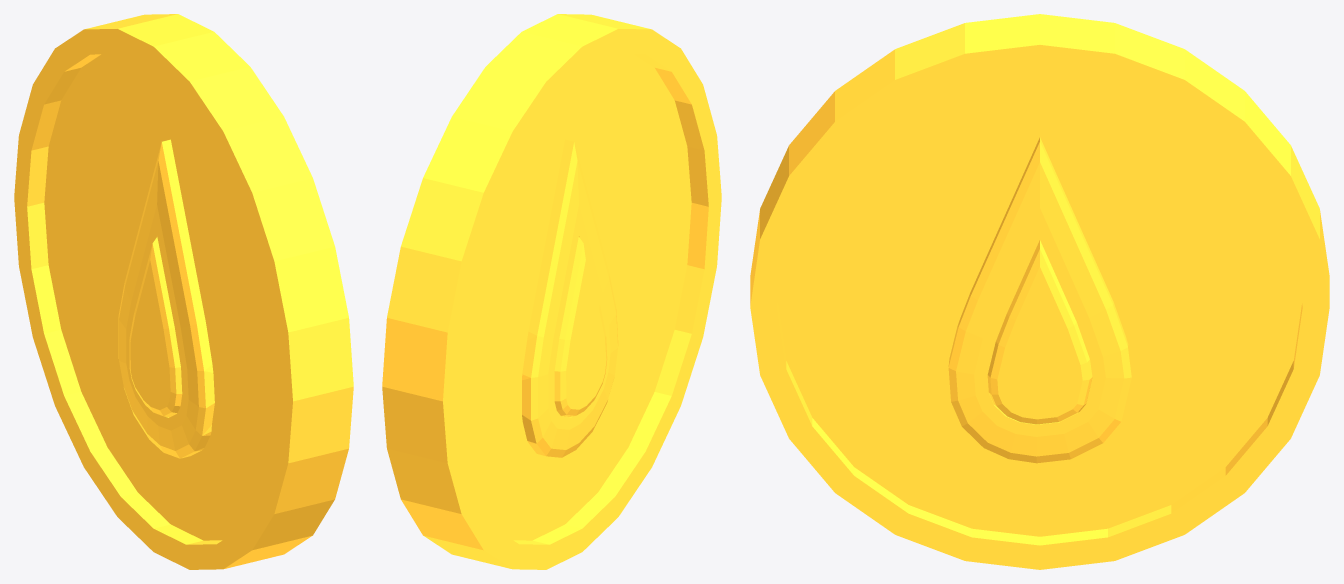
File: coin-v2.fbx
3 views of the same model, side by side, from view 1: azimuth 30°, elevation 25°; view 2: azimuth 150°, elevation 25°; view 3: azimuth 270°, elevation 25° (orthographic). The views are drawn at different scales.
Visible parts, largest first — view 1: Cylinder, Cube; view 2: Cylinder, Cube; view 3: Cylinder, Cube.
Boxes of the visible parts, bbox=[...] form: Cylinder: bbox=[14, 14, 353, 569]; Cube: bbox=[118, 139, 214, 458]; Cylinder: bbox=[382, 14, 721, 569]; Cube: bbox=[522, 139, 618, 457]; Cylinder: bbox=[750, 14, 1329, 569]; Cube: bbox=[948, 137, 1131, 463].
Bounding box in the file's own units: 23.28 × 166 × 166.
